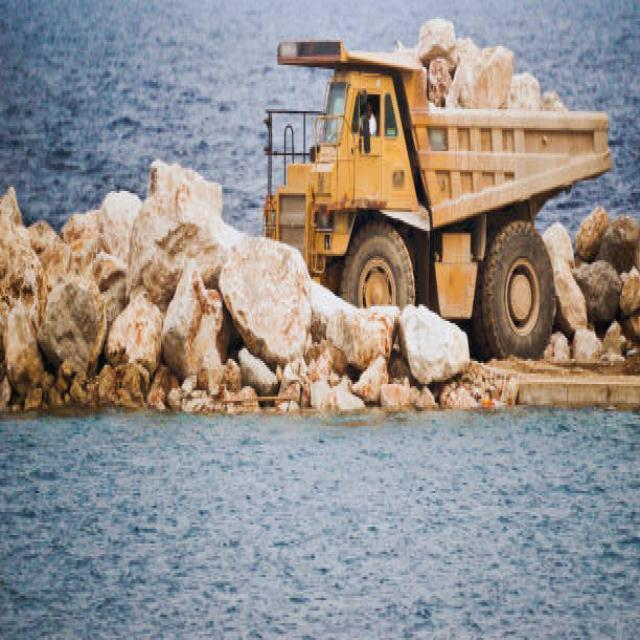uncovered: (272, 11, 618, 321)
